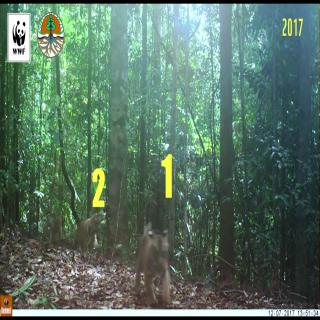Tiger: (123, 221, 178, 304), (65, 204, 112, 262)
